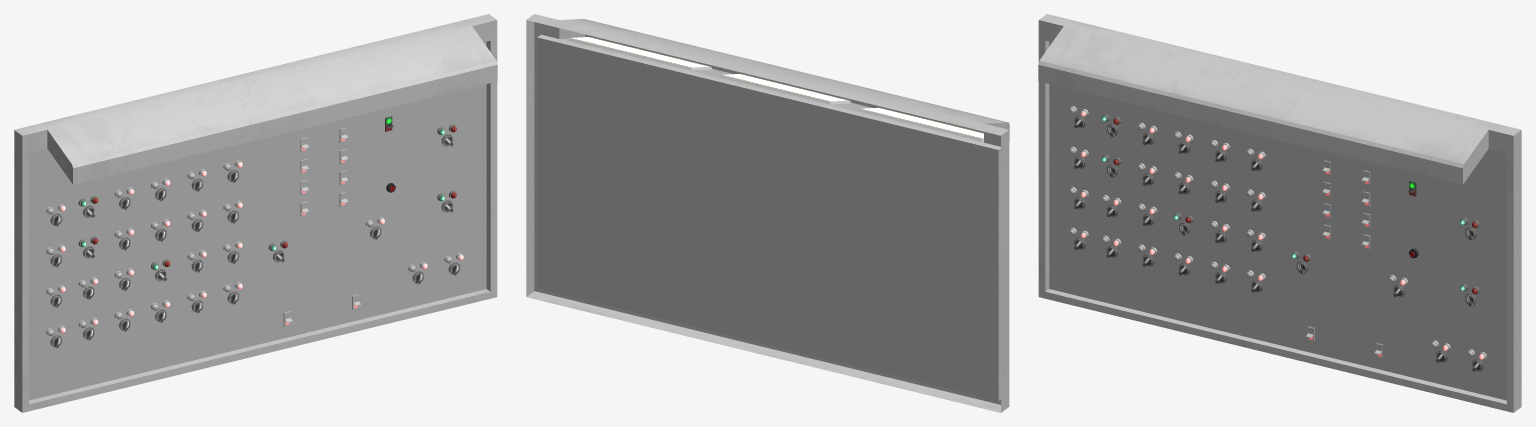
The model's file is SM_ControlPanel_01_B.fbx.
3 views of the same model, side by side, from view 1: azimuth 30°, elevation 25°; view 2: azimuth 150°, elevation 25°; view 3: azimuth 330°, elevation 25° (orthographic).
Parts seen in each view (by area): view 1: SM_ControlPanel_01_B_LOD0; view 2: SM_ControlPanel_01_B_LOD0; view 3: SM_ControlPanel_01_B_LOD0.
Part boxes in pixels (bbox=[...]): SM_ControlPanel_01_B_LOD0: bbox=[14, 14, 497, 412]; SM_ControlPanel_01_B_LOD0: bbox=[526, 14, 1009, 412]; SM_ControlPanel_01_B_LOD0: bbox=[1038, 14, 1521, 412].
Bounding box in the file's own units: 214 × 26.43 × 119.
